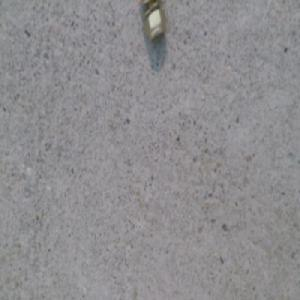BoltNutSet: (141, 3, 163, 49)
